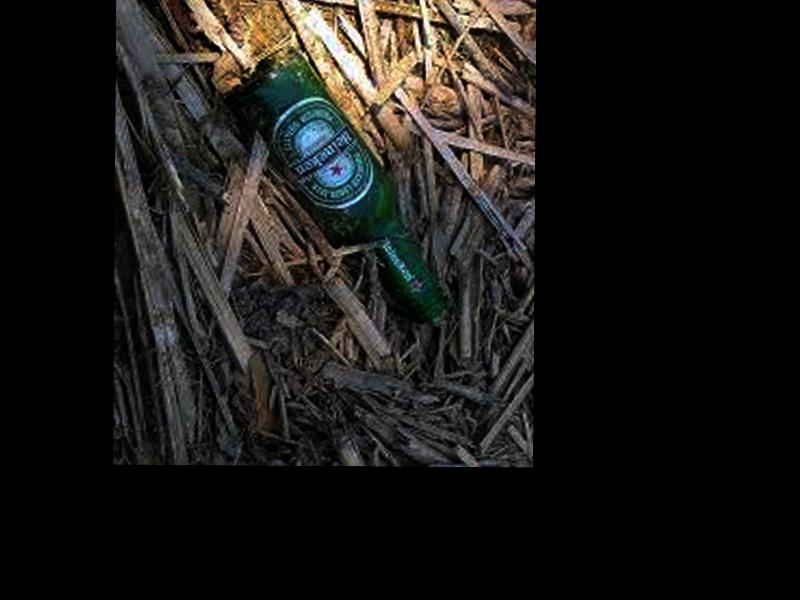Beer: (226, 48, 446, 326)
